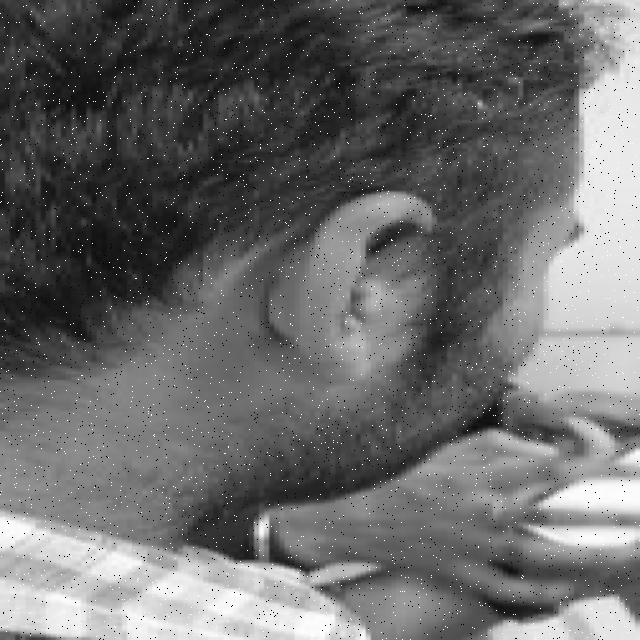ear: (264, 191, 427, 380)
